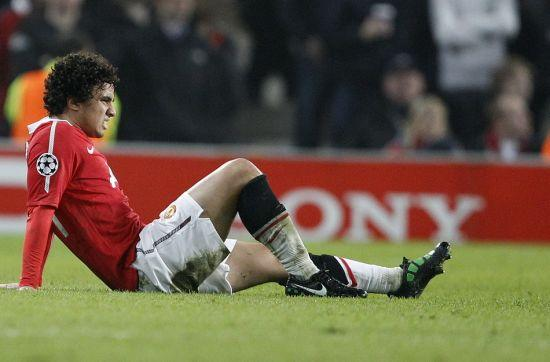bending: (7, 46, 460, 307)
